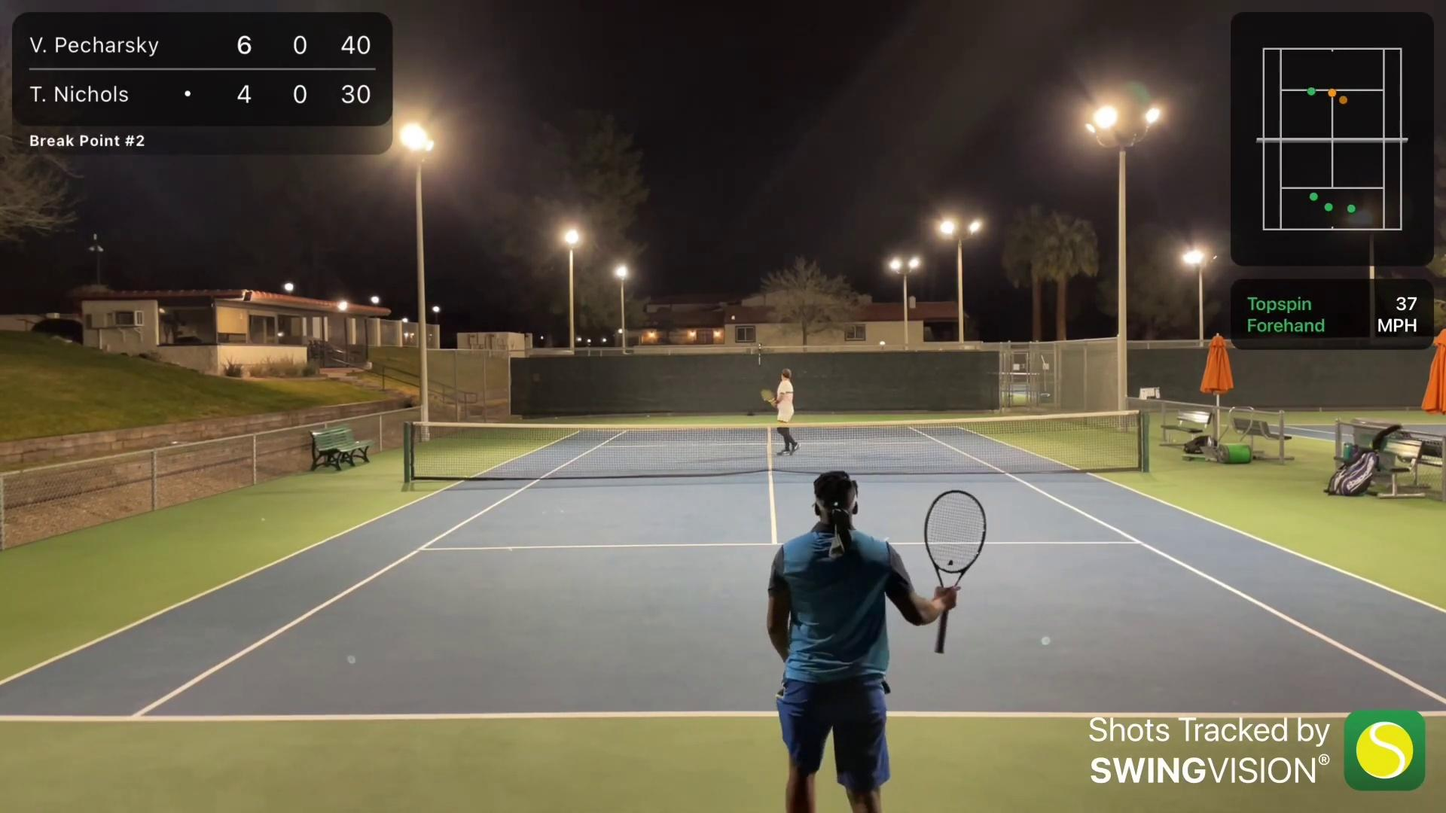ball: (733, 316, 736, 321)
